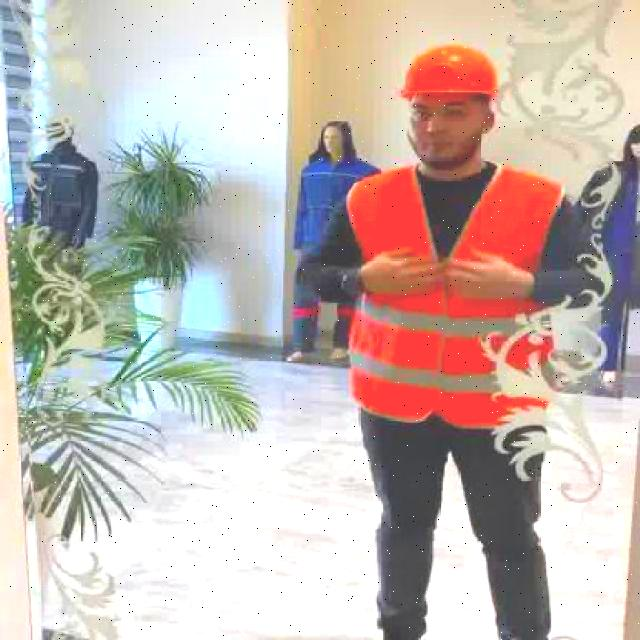Helmet: (400, 44, 503, 100)
Mask: (346, 158, 566, 432), (286, 159, 377, 358), (572, 159, 638, 383), (19, 138, 113, 246)
